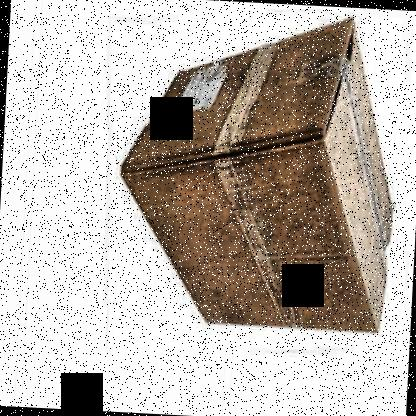no defect parcel: (104, 2, 415, 342)
